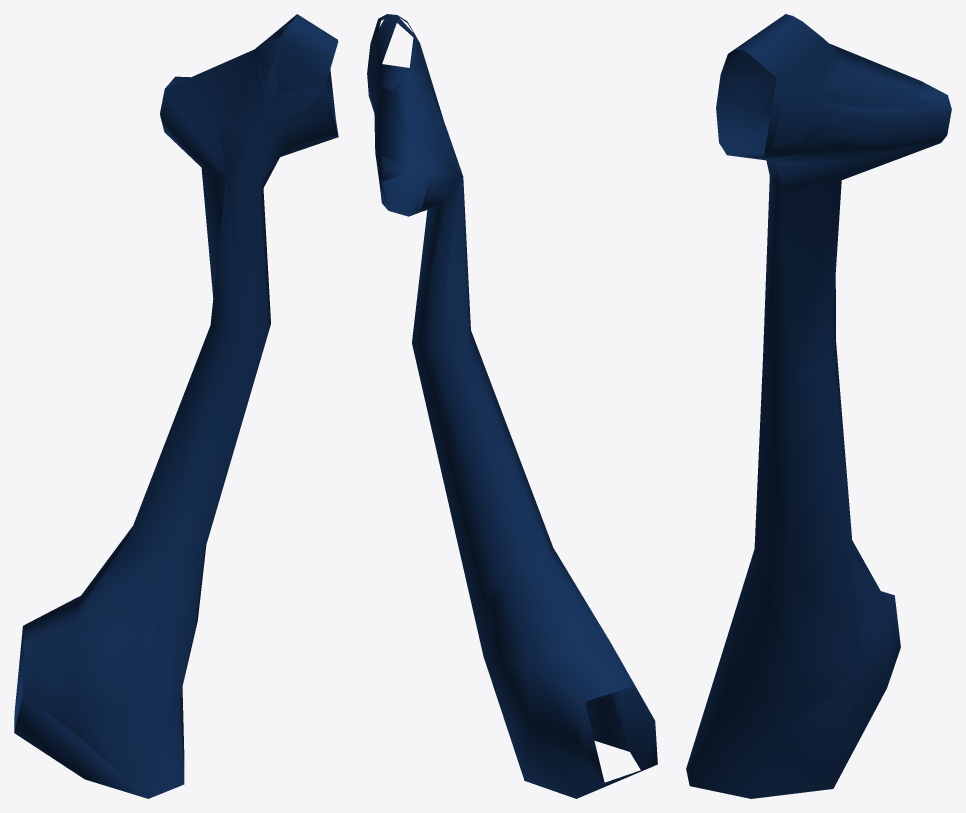
Rendered from R vena axillaris.fbx.
3 views of the same model, side by side, from view 1: azimuth 30°, elevation 25°; view 2: azimuth 150°, elevation 25°; view 3: azimuth 270°, elevation 25° (orthographic). The views are drawn at different scales.
Visible parts, largest first — view 1: R vena axillaris, R vena axillaris low; view 2: R vena axillaris, R vena axillaris low; view 3: R vena axillaris, R vena axillaris low.
Part boxes in pixels (x1,y1,x2,y2): R vena axillaris: [14, 14, 338, 798]; R vena axillaris low: [14, 21, 338, 798]; R vena axillaris: [367, 14, 657, 798]; R vena axillaris low: [375, 16, 656, 798]; R vena axillaris: [686, 14, 951, 798]; R vena axillaris low: [686, 44, 950, 798].
Size of the model in its own units: 2.65 by 5.92 by 1.64.
